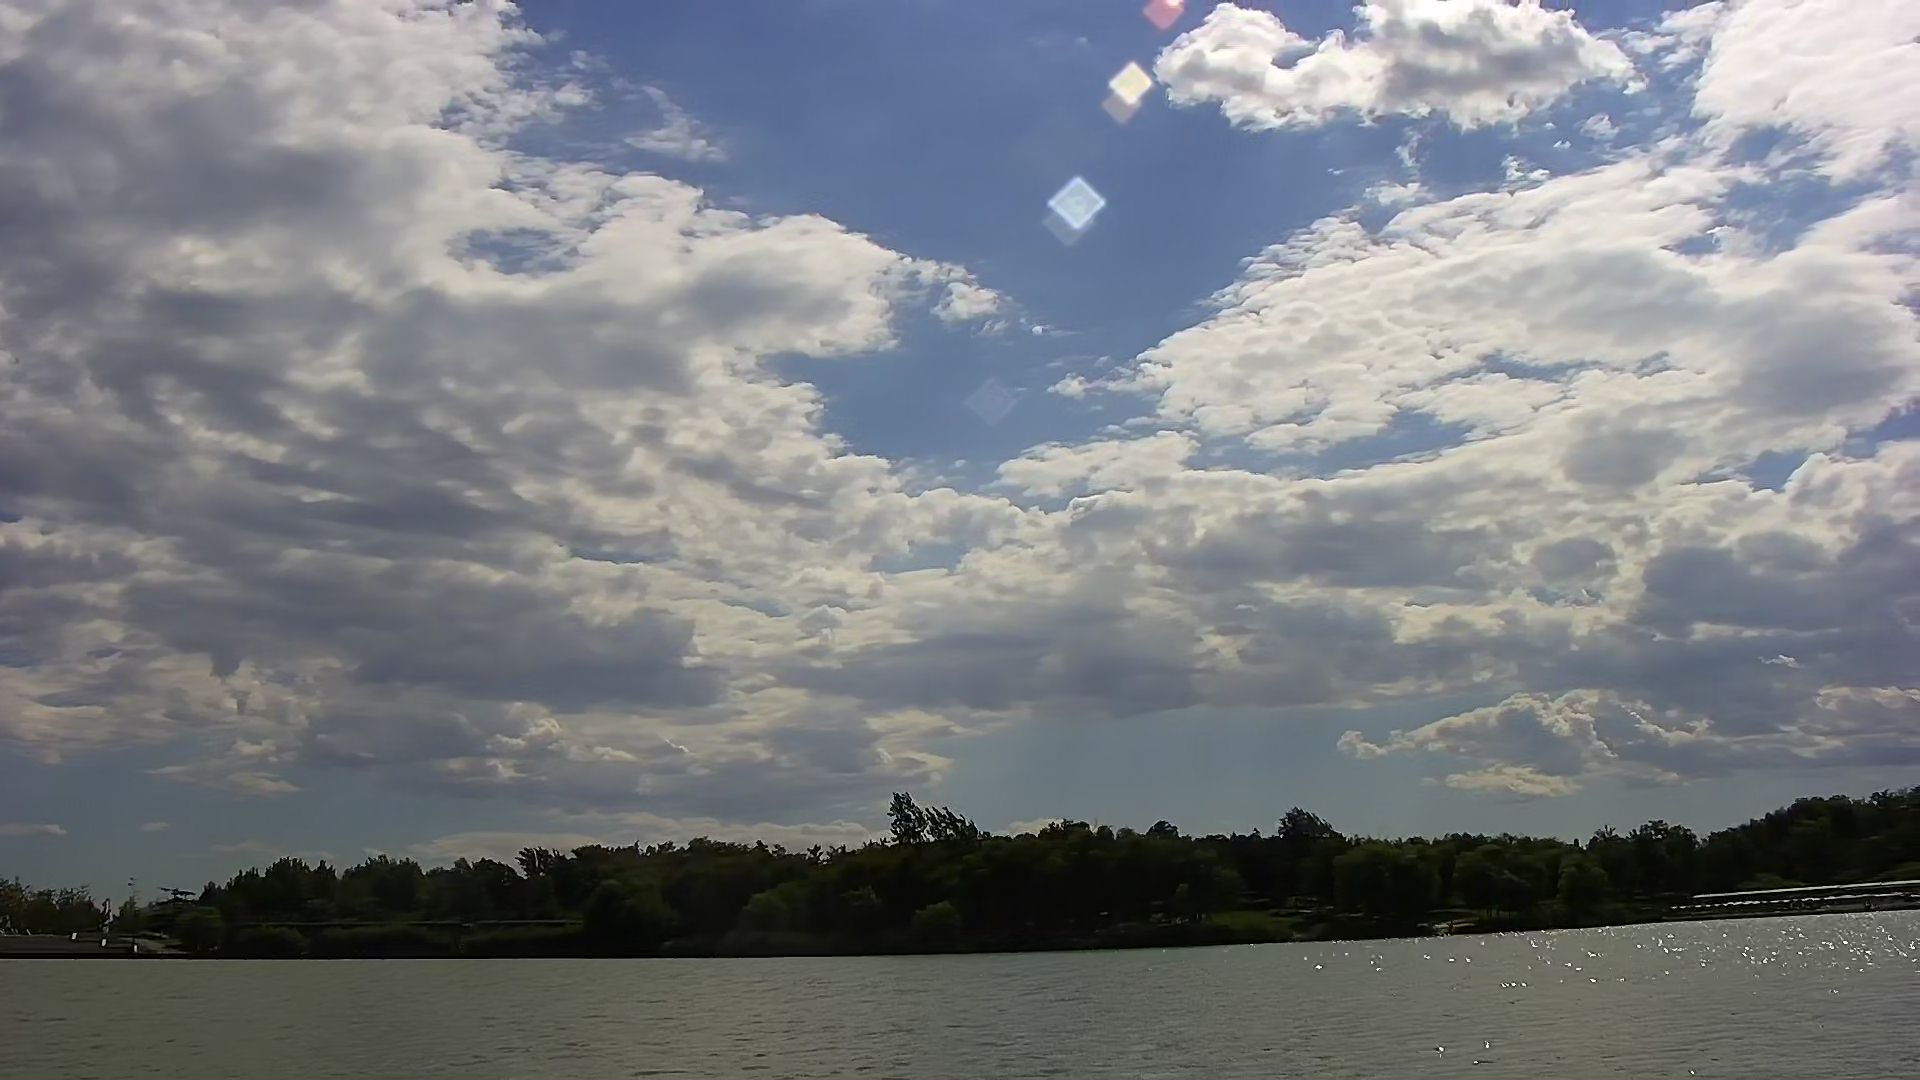harbor: (1702, 866, 1919, 924), (1, 916, 179, 967)
